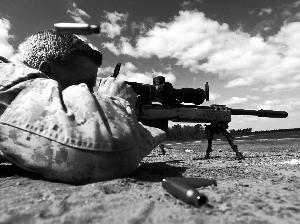sniper: (99, 62, 288, 158)
